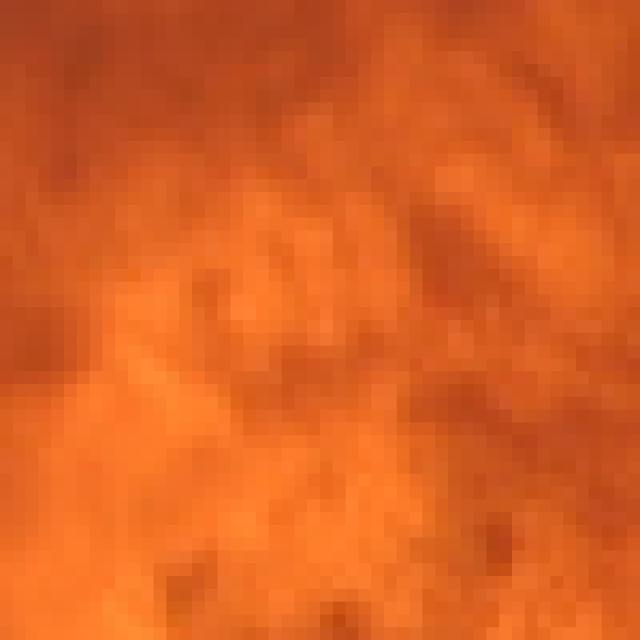fire: (4, 16, 640, 640)
